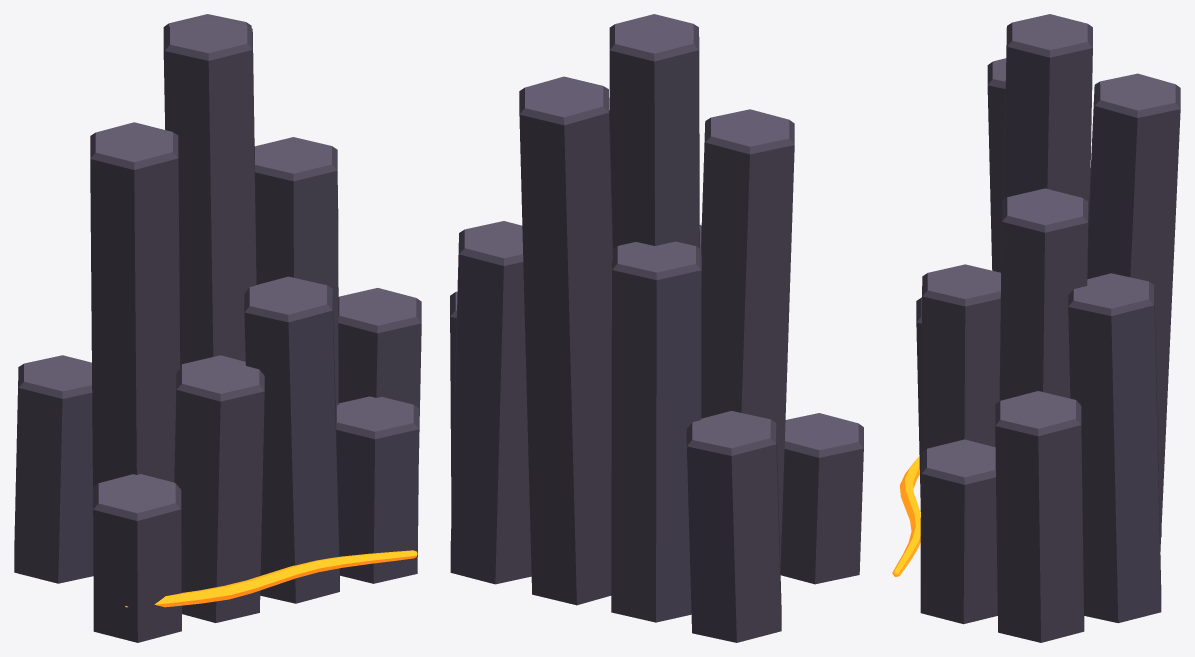
The model's file is basalt_column.glb.
3 views of the same model, side by side, from view 1: azimuth 30°, elevation 25°; view 2: azimuth 150°, elevation 25°; view 3: azimuth 270°, elevation 25° (orthographic). The views are drawn at different scales.
Visible parts, largest first — view 1: basalt_column; view 2: basalt_column; view 3: basalt_column.
Boxes of the visible parts, <box> form: basalt_column: <box>14,14,421,642</box>; basalt_column: <box>450,14,863,642</box>; basalt_column: <box>892,14,1180,642</box>.
Bounding box in the file's own units: 3.89 × 5.32 × 2.7.
